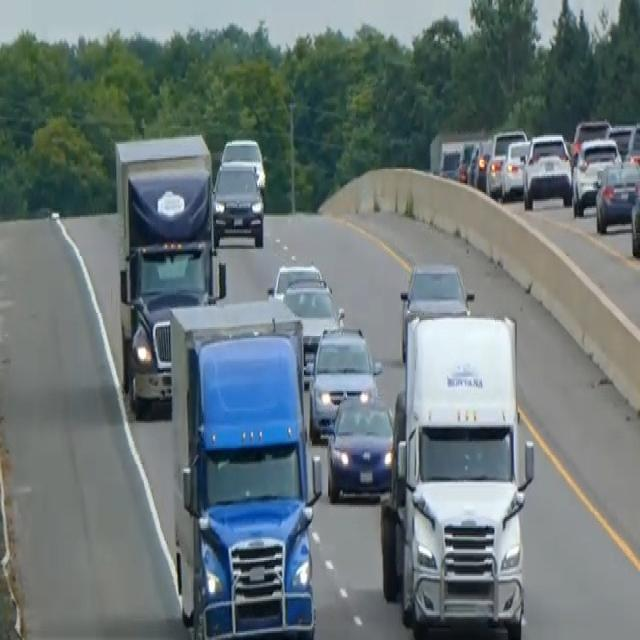car: (308, 322, 381, 441), (268, 260, 343, 375), (325, 388, 395, 502), (398, 259, 473, 361), (211, 158, 265, 247), (571, 135, 621, 217), (521, 130, 572, 210), (594, 156, 639, 233), (220, 135, 266, 194), (268, 260, 327, 298), (500, 137, 530, 199), (438, 137, 475, 183), (571, 116, 611, 154), (467, 137, 492, 190), (606, 121, 636, 160), (629, 180, 639, 256), (625, 121, 639, 172)
lorry: (168, 298, 320, 636), (378, 308, 535, 634)
